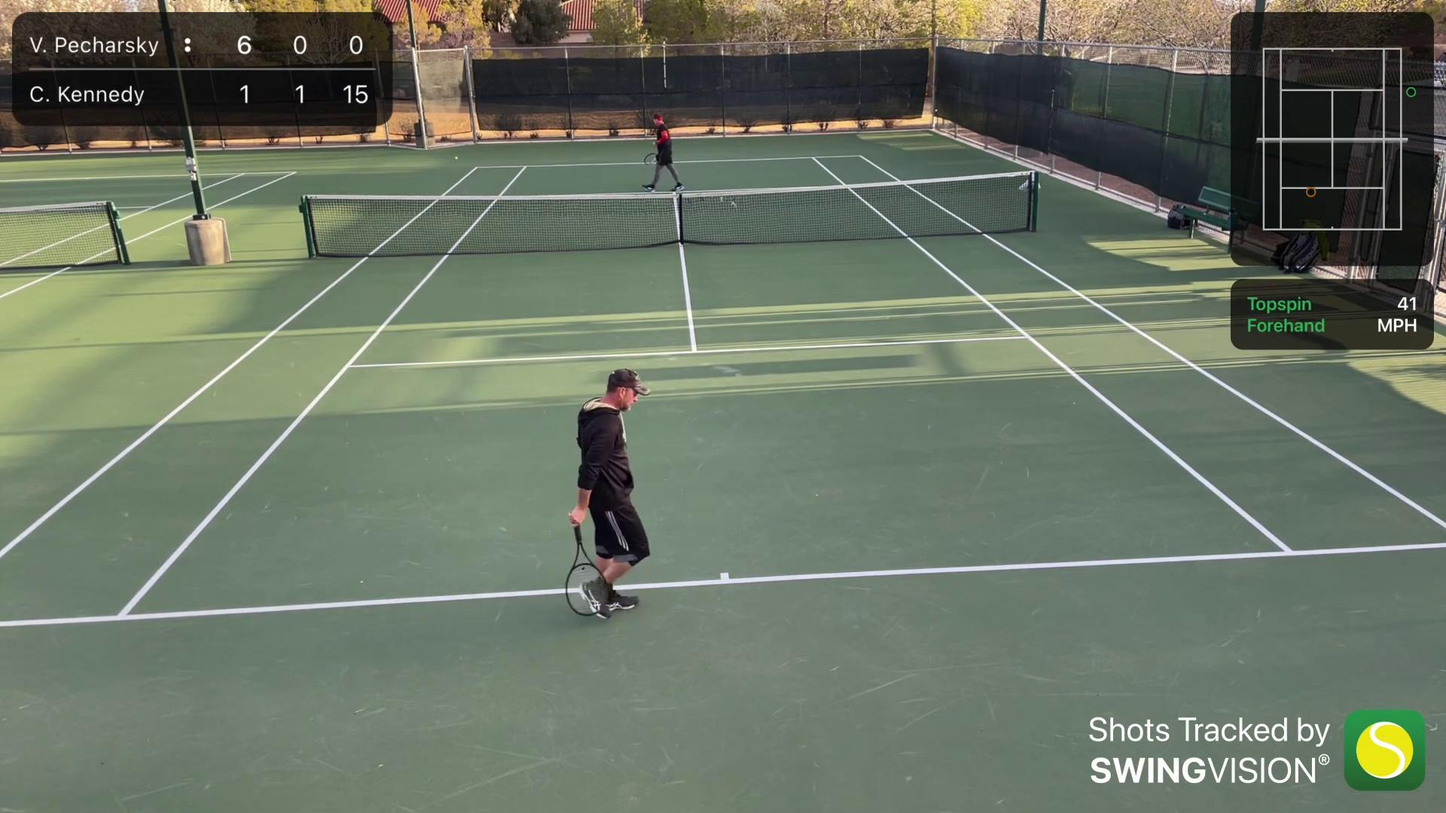ball: (932, 107, 941, 114), (453, 156, 459, 160)
